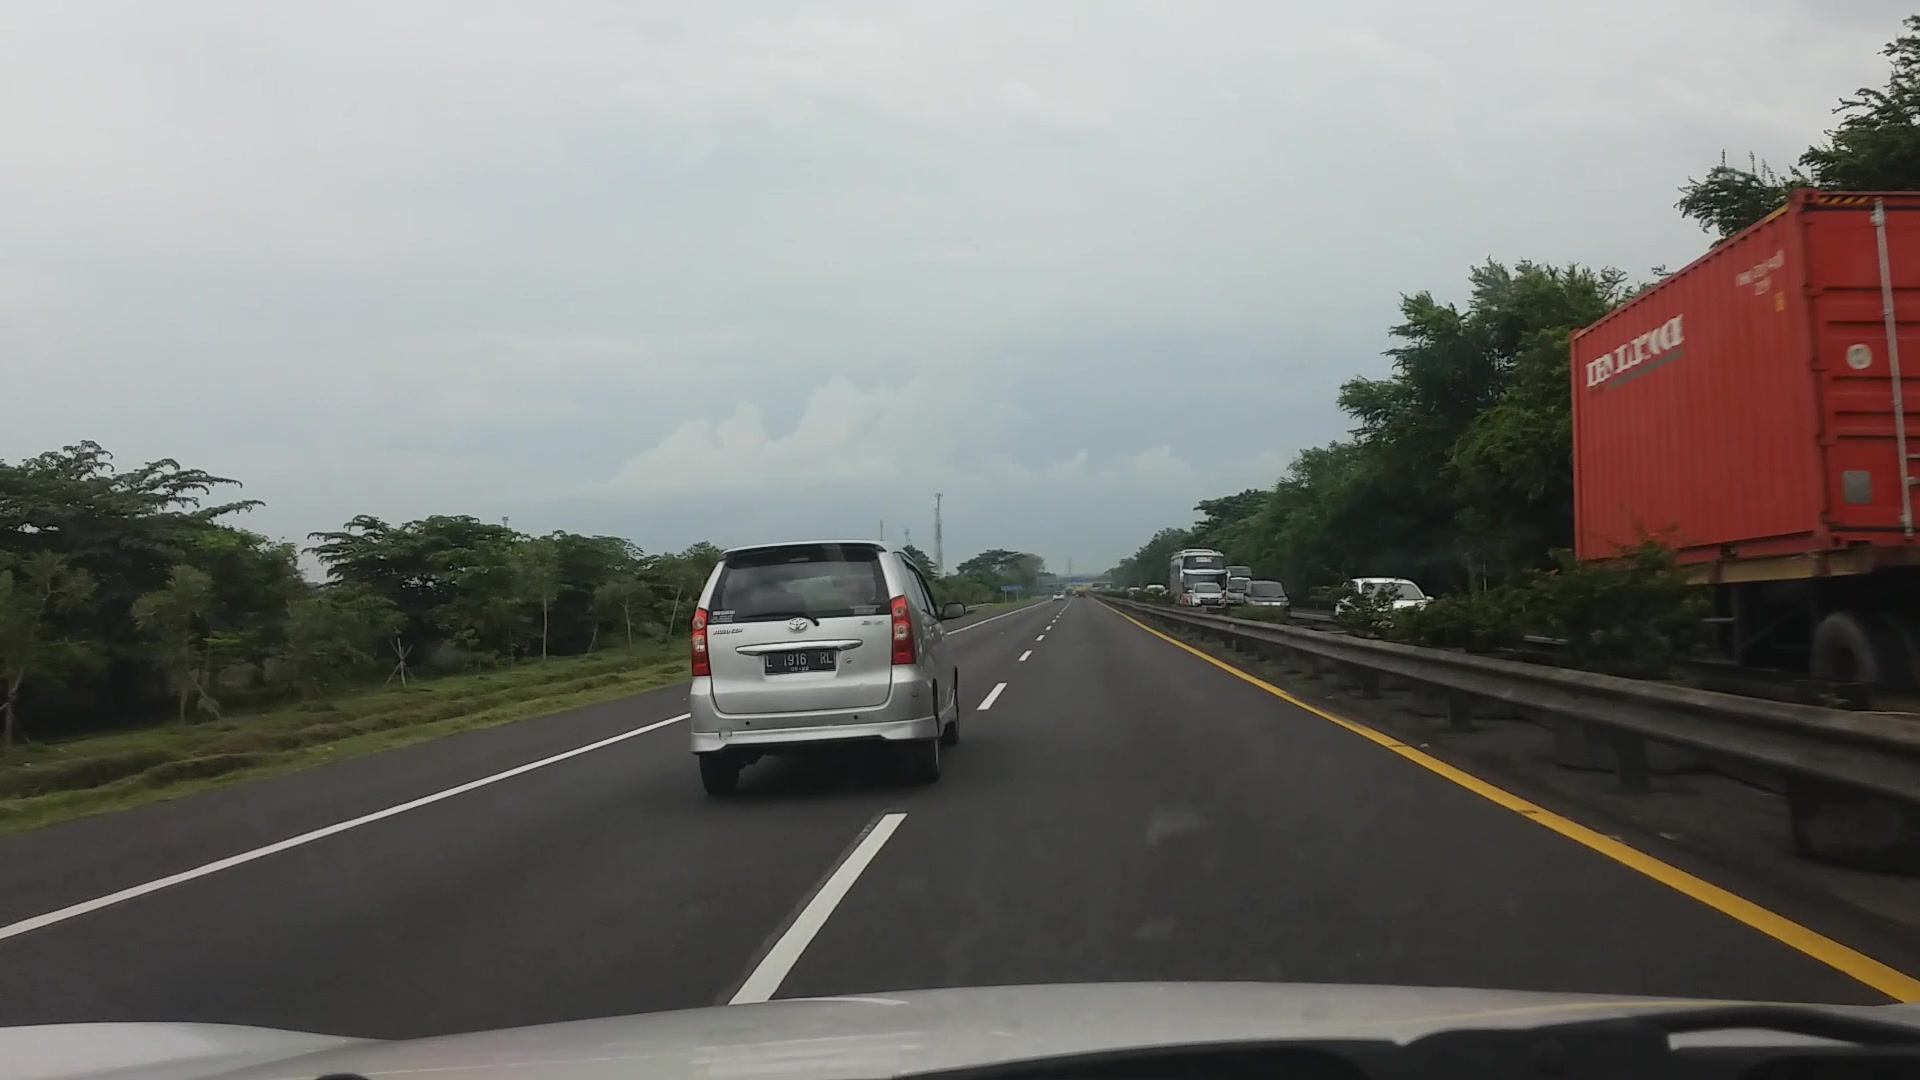plate_positive: (764, 647, 835, 675)
